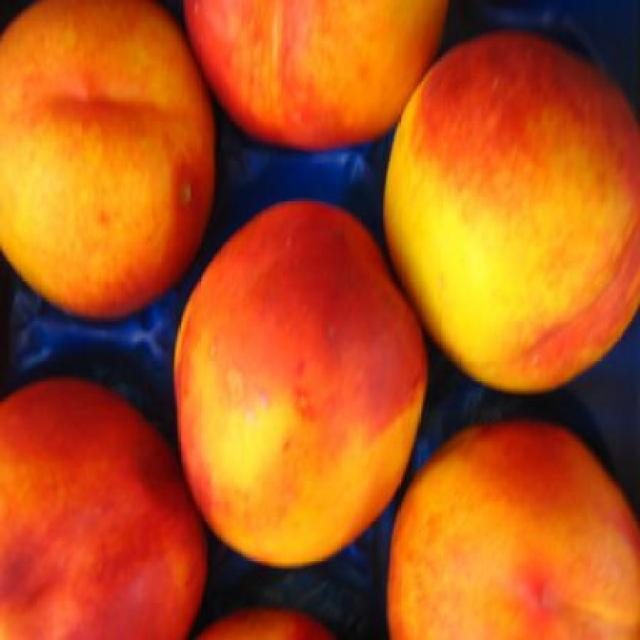Peach: (170, 197, 428, 568), (173, 198, 430, 567), (383, 32, 640, 398), (381, 33, 640, 396), (0, 0, 217, 328), (0, 0, 214, 318), (386, 418, 640, 640), (386, 422, 640, 640), (0, 376, 208, 638), (0, 378, 208, 640), (182, 0, 448, 157), (180, 0, 444, 149), (198, 602, 338, 640), (200, 608, 334, 640)
